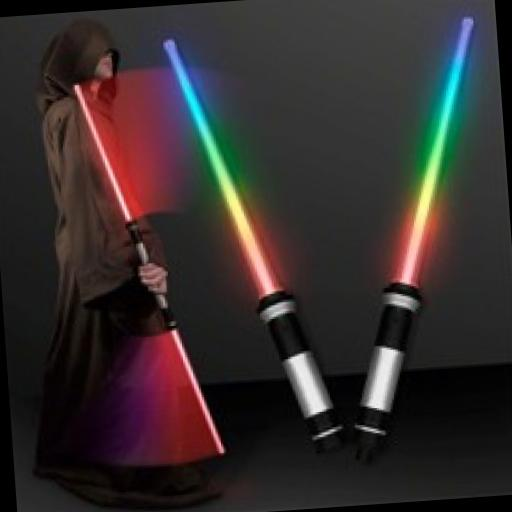lightsaber: (321, 14, 508, 455), (164, 29, 346, 458)
sith saber: (70, 74, 226, 464)
